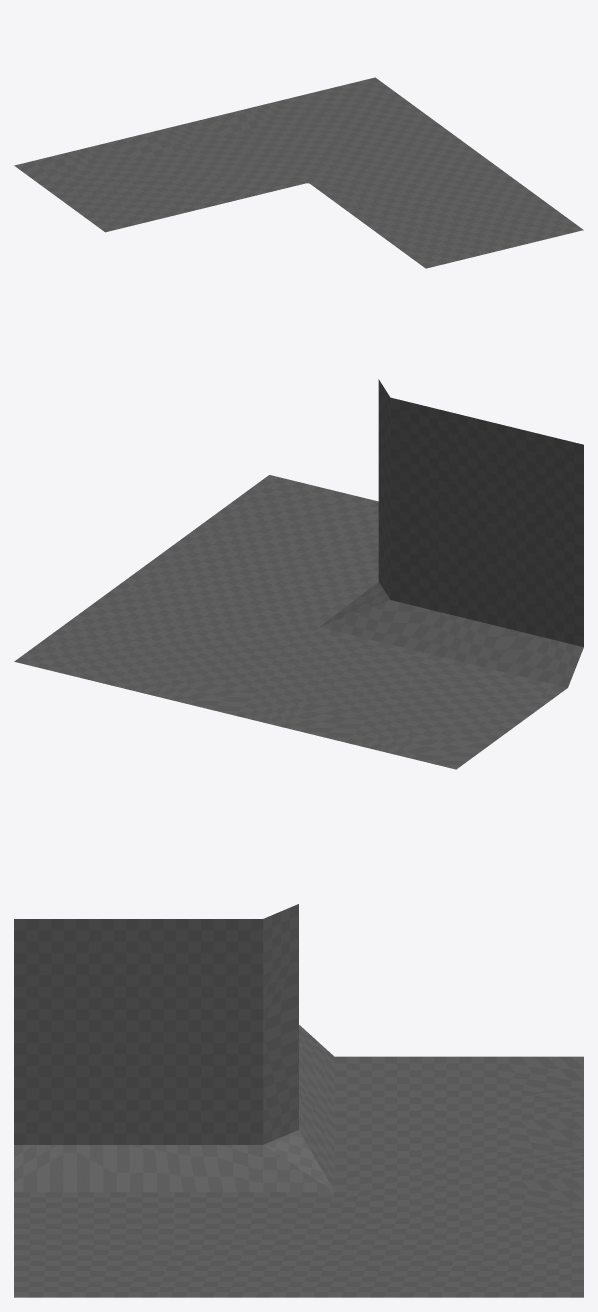
3 renders of one model, top to bottom at view 1: azimuth 30°, elevation 25°; view 2: azimuth 150°, elevation 25°; view 3: azimuth 270°, elevation 25°, orthographic. The views are drawn at different scales.
Visible parts, largest first — view 1: 0; view 2: 0; view 3: 0.
Part boxes in pixels (<box>): 0: <box>14,77,583,268</box>; 0: <box>14,379,583,769</box>; 0: <box>14,904,583,1297</box>.
Bounding box in the file's own units: 4 × 2 × 4.
1 material, 1 textured.
